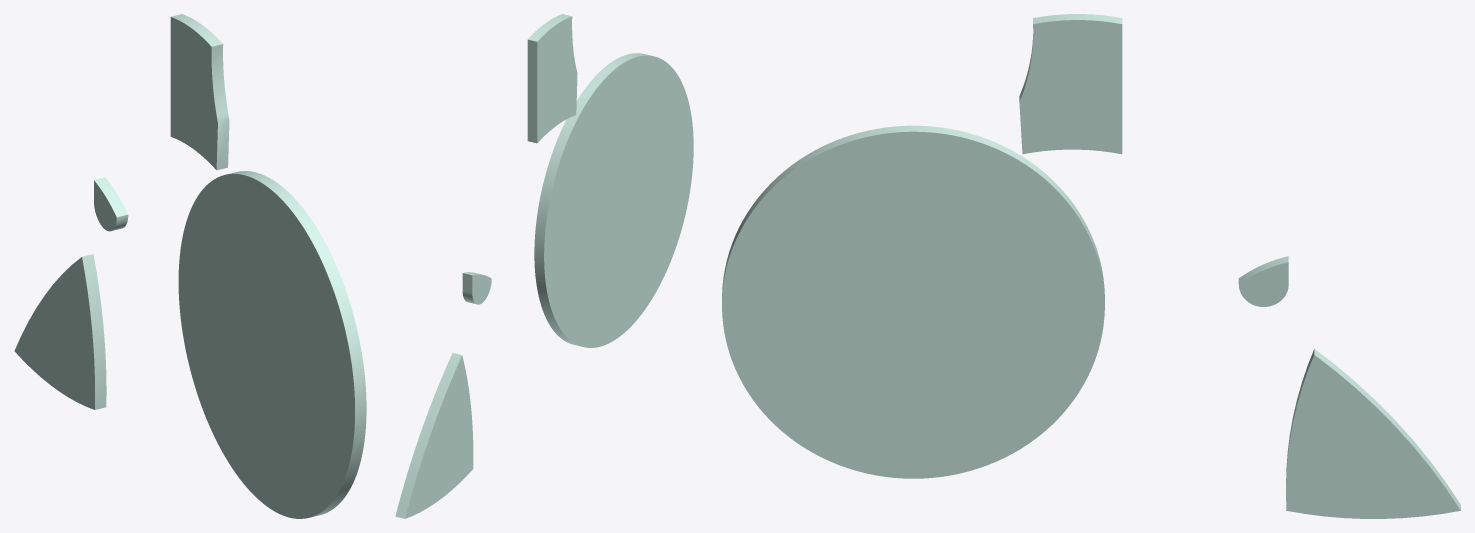
3 views of the same model, side by side, from view 1: azimuth 30°, elevation 25°; view 2: azimuth 150°, elevation 25°; view 3: azimuth 270°, elevation 25° (orthographic). The views are drawn at different scales.
Visible parts, largest first — view 1: Renderer Node; view 2: Renderer Node; view 3: Renderer Node.
Boxes of the visible parts, <box> form: Renderer Node: <box>14,14,366,518</box>; Renderer Node: <box>395,14,693,518</box>; Renderer Node: <box>722,14,1460,518</box>.
Bounding box in the file's own units: 0.0391 × 1.5 × 2.01.
